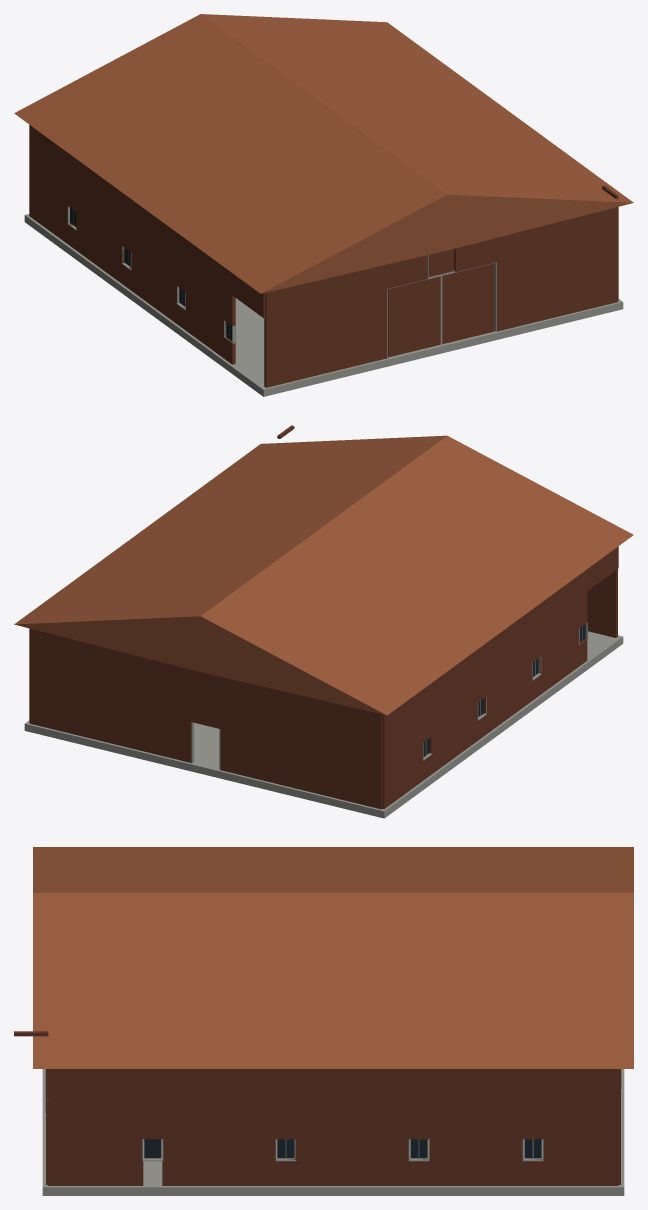
Rendered from FM_Barn_Damaged_01.glb.
3 views of the same model, one above another, from view 1: azimuth 30°, elevation 25°; view 2: azimuth 150°, elevation 25°; view 3: azimuth 270°, elevation 25° (orthographic). The views are drawn at different scales.
Visible parts, largest first — view 1: FM_Barn_Damaged_01; view 2: FM_Barn_Damaged_01; view 3: FM_Barn_Damaged_01.
Boxes of the visible parts, left/top/right/bottom form: FM_Barn_Damaged_01: left=14, top=14, right=633, bottom=396; FM_Barn_Damaged_01: left=14, top=425, right=633, bottom=818; FM_Barn_Damaged_01: left=14, top=847, right=633, bottom=1195.
Bounding box in the file's own units: 27.6 × 11.4 × 32.6.
Materials: 1 (1 with a texture image).
